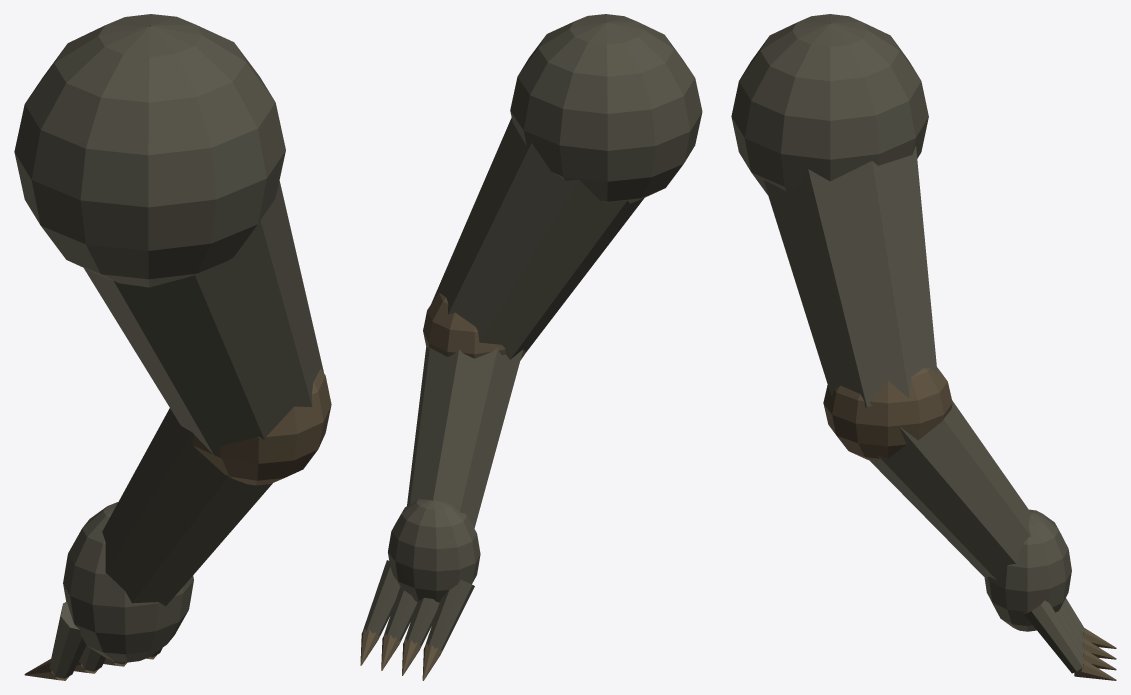
The model's file is right_claw.obj.
3 views of the same model, side by side, from view 1: azimuth 30°, elevation 25°; view 2: azimuth 150°, elevation 25°; view 3: azimuth 270°, elevation 25° (orthographic). The views are drawn at different scales.
Size of the model in its own units: 0.412 by 0.9739 by 0.5655.
